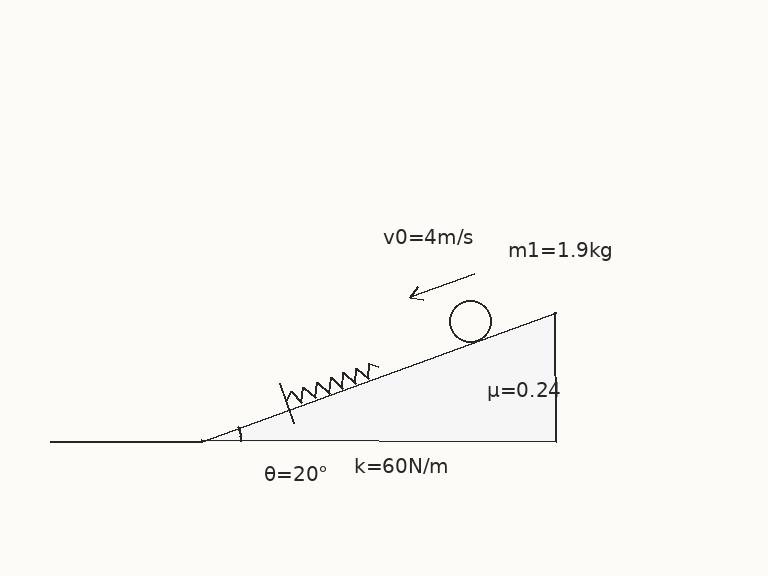ball: (447, 298, 493, 344)
ramp: (199, 310, 557, 443)
spring: (284, 361, 381, 404)
